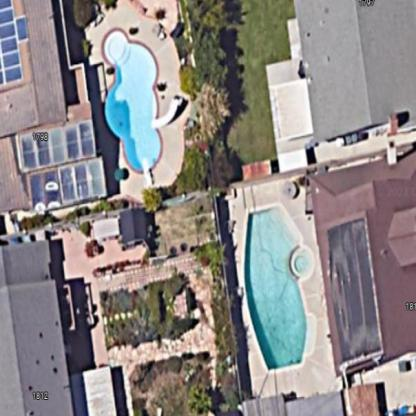pool: (235, 200, 319, 378), (86, 18, 174, 182)
